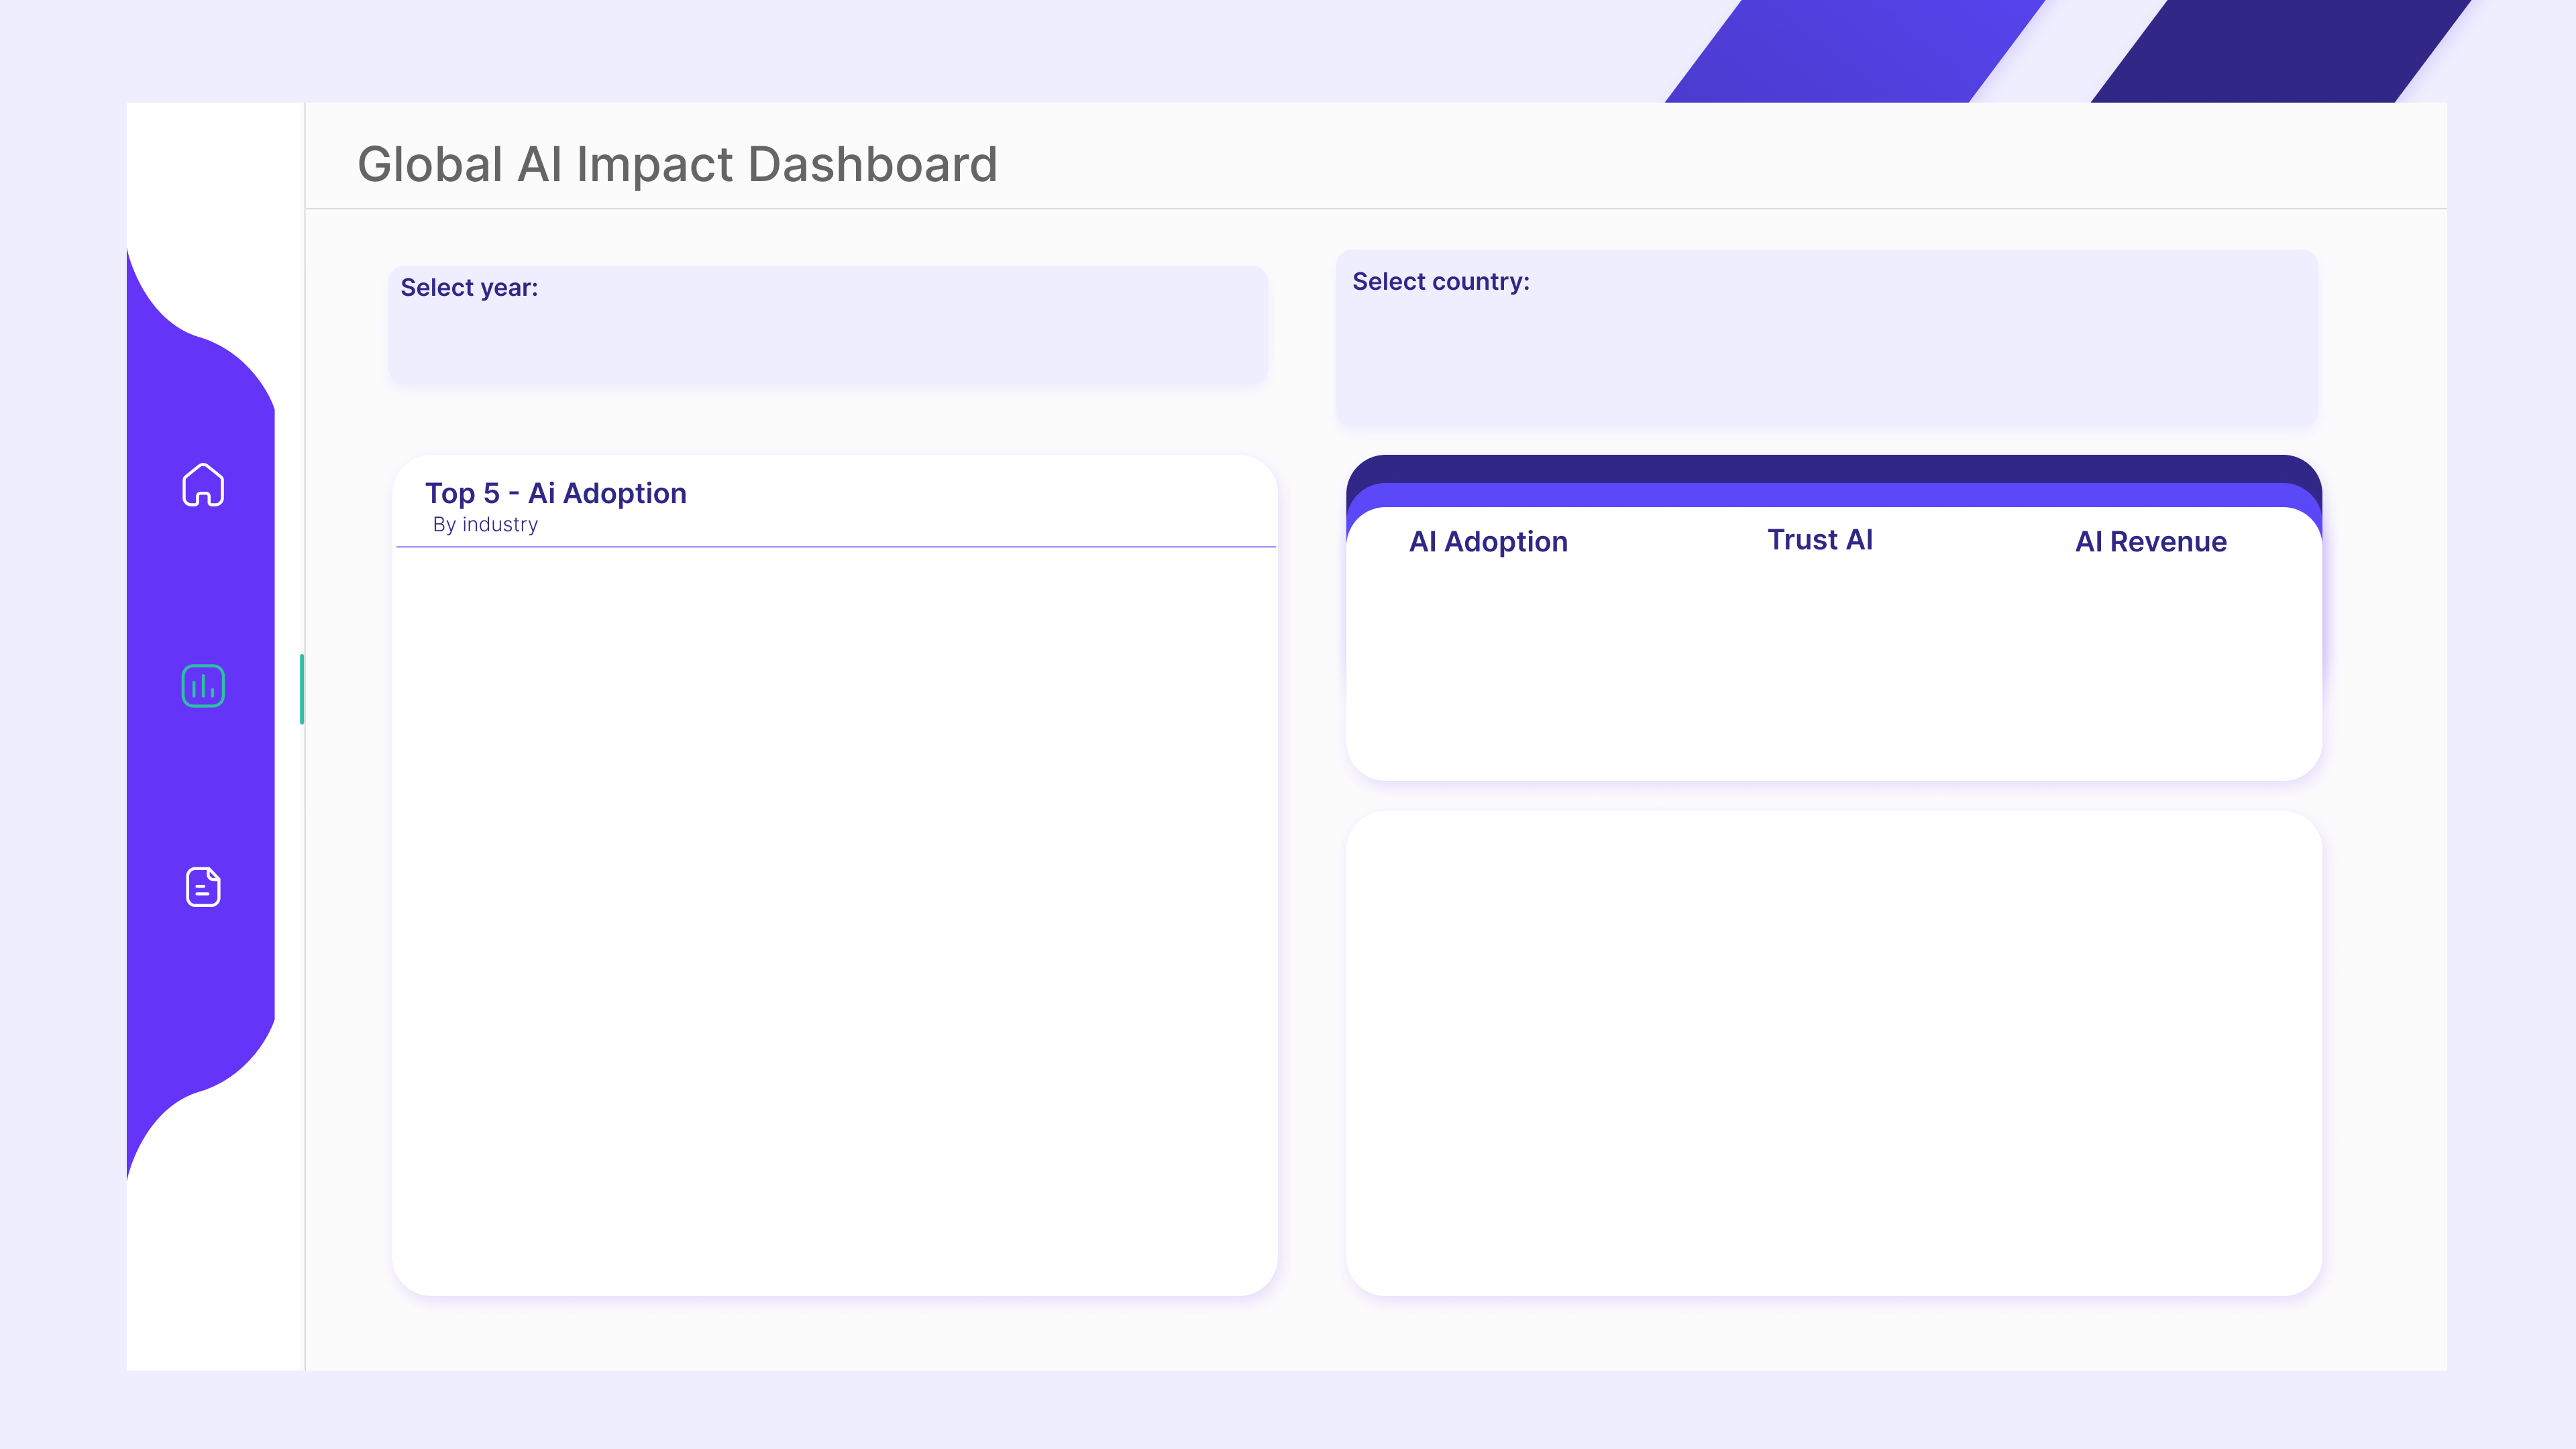

What the dashboard file says about the page in this screenshot:
{"tool":"powerbi","page":{"name":"General","canvas":[1280,720],"ordinal":1},"visuals":[{"type":"cardVisual","fields":{"Data":["DAX.avg_adoption_rate"]},"box":[679,288,126,72],"z":0},{"type":"card","fields":{"Values":["DAX.avg_consumer_trust"]},"box":[839,273,133,104],"z":1000},{"type":"clusteredBarChart","fields":{"Category":["08-Impacto_IA.Industry"],"Y":["DAX.avg_adoption_rate"]},"box":[197,273,431,367],"z":2000},{"type":"cardVisual","fields":{"Data":["DAX.sum_revenue"]},"box":[972.2,273.3,162.2,103.3],"z":3000},{"type":"pivotTable","fields":{"Rows":["08-Impacto_IA.Top AI Tools Used"],"Values":["DAX.MostUsedTool","DAX.avg_job_loss","DAX.Sum_AI_Data_Usage"]},"box":[678.9,414.4,467.8,225.6],"z":4000},{"type":"slicer","fields":{"Values":["08-Impacto_IA.Year"]},"box":[197,143,431,45],"z":5000},{"type":"actionButton","box":[86.5,424.7,28.2,31.8],"z":6000},{"type":"ChicletSlicer1448559807354","fields":{"Image":["Tab_flags.Image"],"Category":["Tab_flags.Country"]},"box":[709,136,438,84],"z":7000},{"type":"actionButton","box":[86,220,28,35],"z":8000}]}

Visuals, with their boxes in screenshot pixels (x1, y1, x2, y2), scaled from the page's 1280x720 canvas onto the 2576x1449 screenshot:
cardVisual - DAX.avg_adoption_rate: box=[1366, 580, 1620, 724]
card - DAX.avg_consumer_trust: box=[1688, 549, 1956, 759]
clusteredBarChart - 08-Impacto_IA.Industry x DAX.avg_adoption_rate: box=[396, 549, 1264, 1288]
cardVisual - DAX.sum_revenue: box=[1957, 550, 2283, 758]
pivotTable - 08-Impacto_IA.Top AI Tools Used x DAX.MostUsedTool: box=[1366, 834, 2308, 1288]
slicer - 08-Impacto_IA.Year: box=[396, 288, 1264, 378]
actionButton: box=[174, 855, 231, 919]
ChicletSlicer1448559807354 - Tab_flags.Image x Tab_flags.Country: box=[1427, 274, 2308, 443]
actionButton: box=[173, 443, 229, 513]
